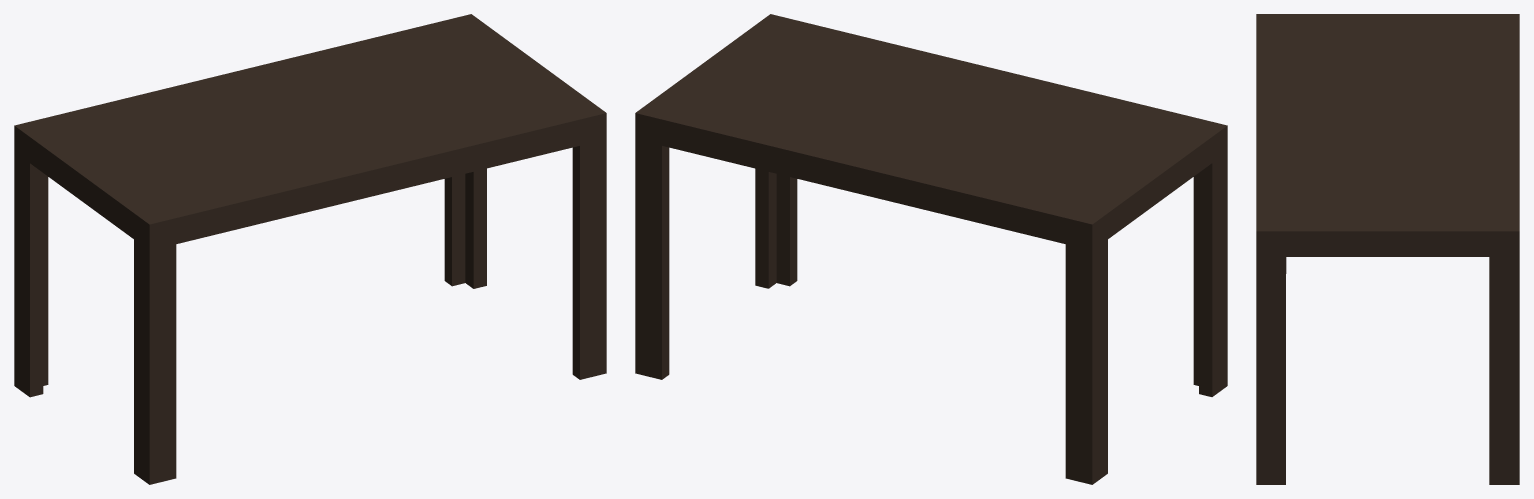
The model's file is Table 1.fbx.
3 views of the same model, side by side, from view 1: azimuth 30°, elevation 25°; view 2: azimuth 150°, elevation 25°; view 3: azimuth 270°, elevation 25° (orthographic). The views are drawn at different scales.
Parts seen in each view (by area): view 1: Cube; view 2: Cube; view 3: Cube.
Boxes of the visible parts, x1,y1,x2,y2 form: Cube: (14,14,606,484); Cube: (635,14,1227,484); Cube: (1256,14,1519,484).
Bounding box in the file's own units: 778 × 399 × 423.
